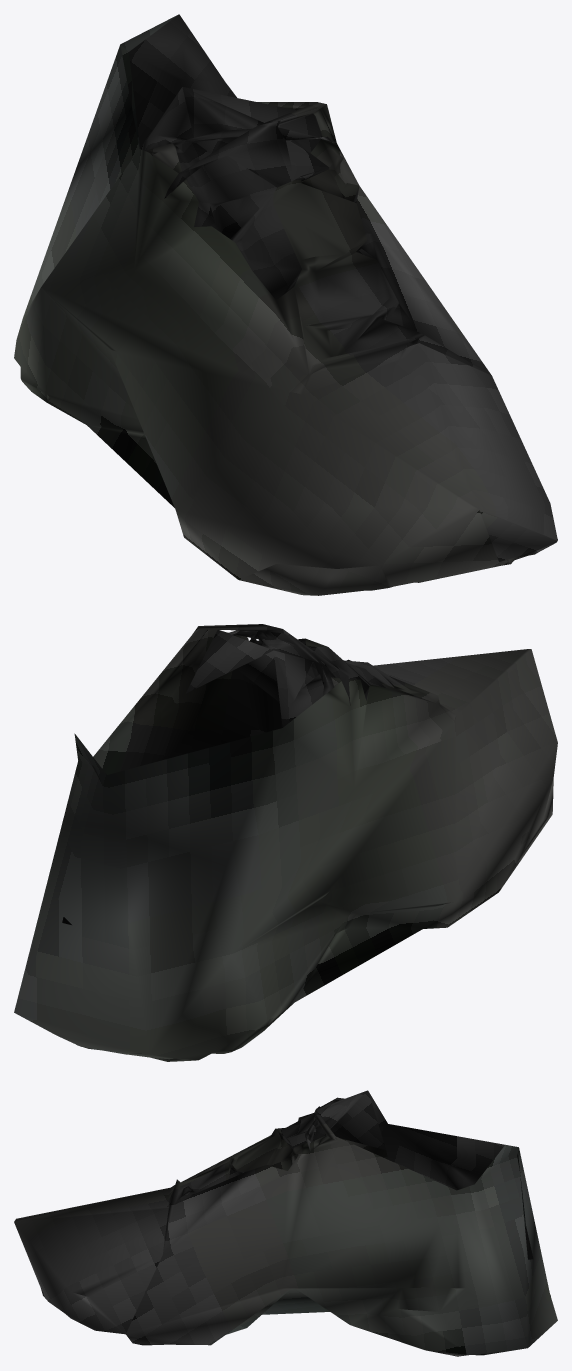
File: Reebok_DMX_MAX_PLUS_RAINWALKER-low.glb
3 views of the same model, one above another, from view 1: azimuth 30°, elevation 25°; view 2: azimuth 150°, elevation 25°; view 3: azimuth 270°, elevation 25° (orthographic). The views are drawn at different scales.
Visible parts, largest first — view 1: Reebok_DMX_MAX_PLUS_RAINWALKER; view 2: Reebok_DMX_MAX_PLUS_RAINWALKER; view 3: Reebok_DMX_MAX_PLUS_RAINWALKER.
Boxes of the visible parts, x1,y1,x2,y2 form: Reebok_DMX_MAX_PLUS_RAINWALKER: [14, 14, 557, 595]; Reebok_DMX_MAX_PLUS_RAINWALKER: [14, 624, 557, 1061]; Reebok_DMX_MAX_PLUS_RAINWALKER: [14, 1090, 557, 1356].
Size of the model in its own units: 0.1038 by 0.1345 by 0.292.
1 material, 1 textured.
